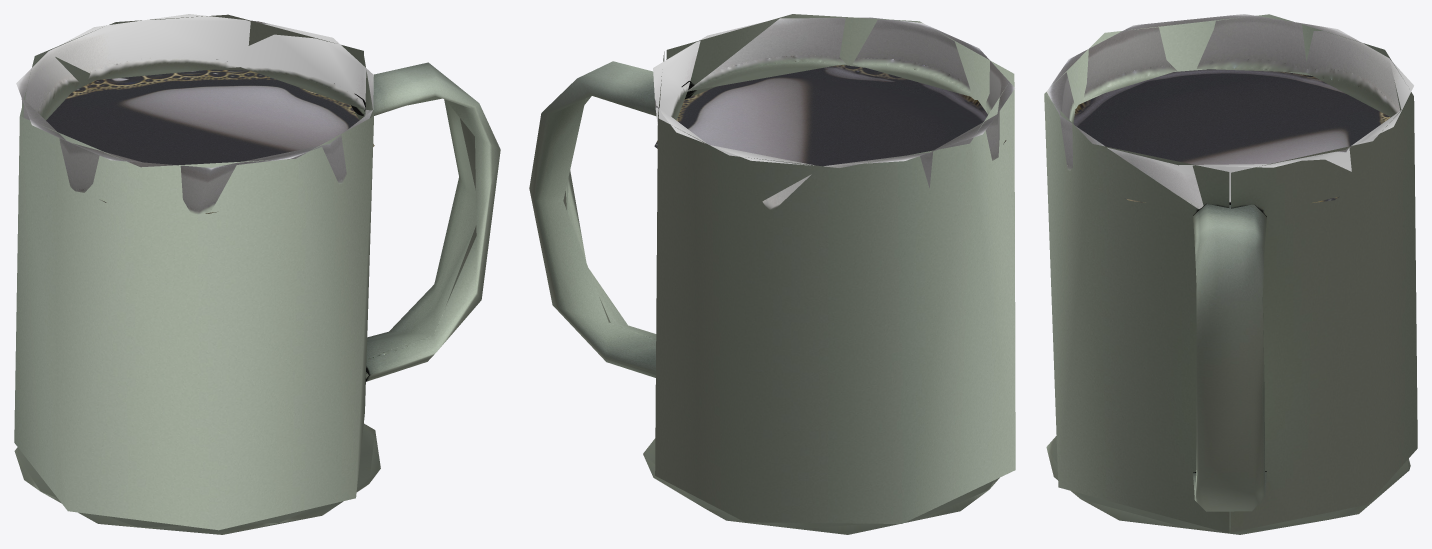
The model's file is far.glb.
3 views of the same model, side by side, from view 1: azimuth 30°, elevation 25°; view 2: azimuth 150°, elevation 25°; view 3: azimuth 270°, elevation 25° (orthographic).
Parts seen in each view (by area): view 1: coffee1; view 2: coffee1; view 3: coffee1.
Part boxes in pixels (box(x1,y1,x2,y2)): coffee1: box(14, 14, 500, 534); coffee1: box(529, 14, 1015, 534); coffee1: box(1044, 14, 1417, 534).
Bounding box in the file's own units: 1.71 × 1.34 × 1.23.
Materials: 1 (1 with a texture image).
